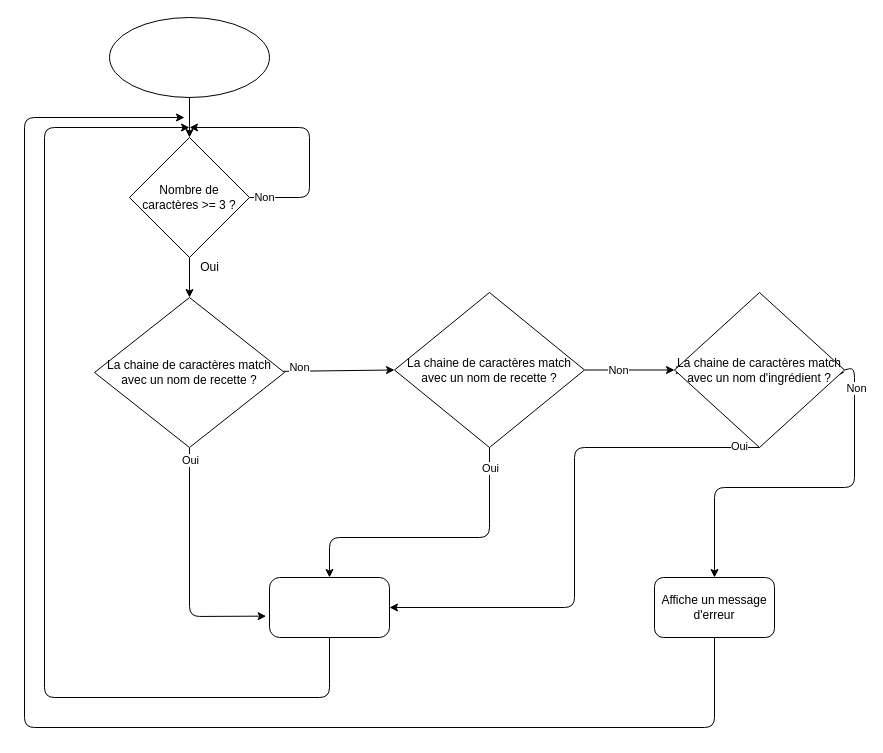
The diagram is 883 pixels wide and 753 high, and some of its shapes have lost their labels. Each missing label, with the box of its shape:
Affiche les recettes coorrespondantes: (268, 576, 390, 638)
L'utilisateur clique sur l'input et commence à taper: (108, 16, 270, 98)
